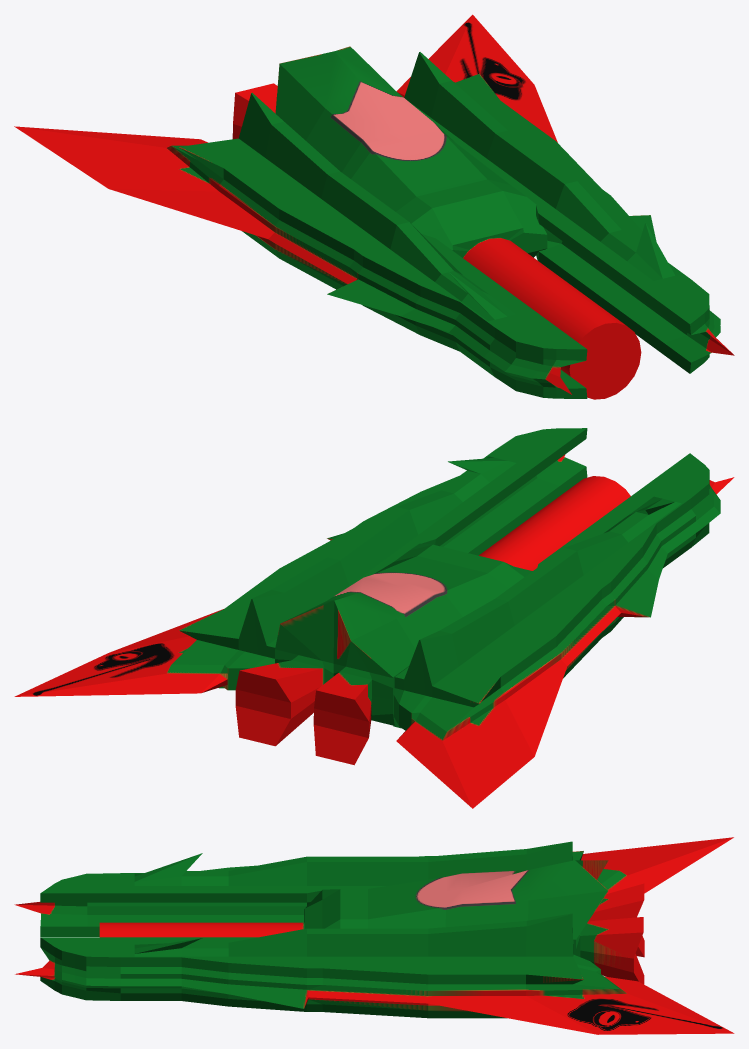
File: medium frog ship.obj
The picture shows the model from 3 angles, top to bottom: view 1: azimuth 30°, elevation 25°; view 2: azimuth 150°, elevation 25°; view 3: azimuth 270°, elevation 25°; orthographic projection. The views are drawn at different scales.
Visible parts, largest first — view 1: Railgun:Railgun:pCylinder1; view 2: Railgun:Railgun:pCylinder1; view 3: Railgun:Railgun:pCylinder1.
Boxes of the visible parts, x1,y1,x2,y2 form: Railgun:Railgun:pCylinder1: [14, 14, 734, 399]; Railgun:Railgun:pCylinder1: [14, 428, 734, 808]; Railgun:Railgun:pCylinder1: [14, 837, 734, 1034].
Bounding box in the file's own units: 55.38 × 17.25 × 85.84.
